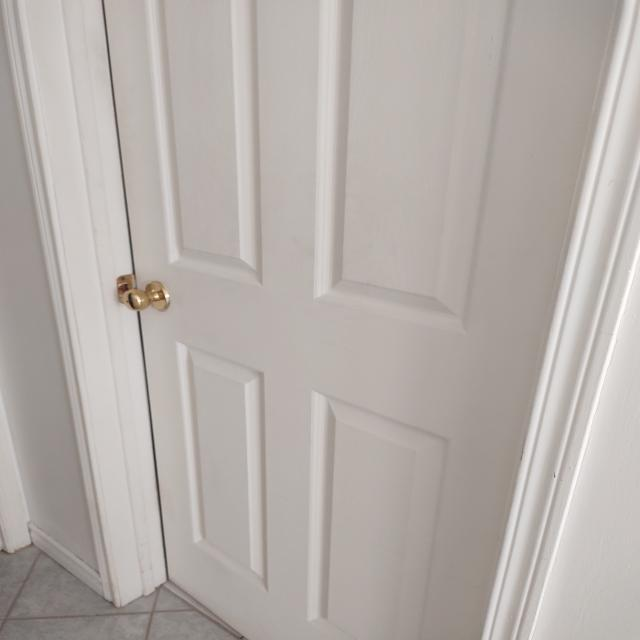door-knob: (122, 281, 170, 311)
